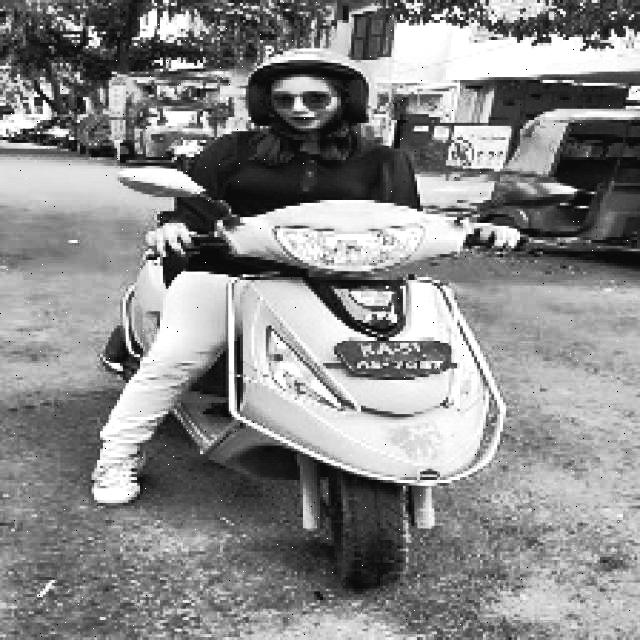Bike: (85, 200, 495, 578)
